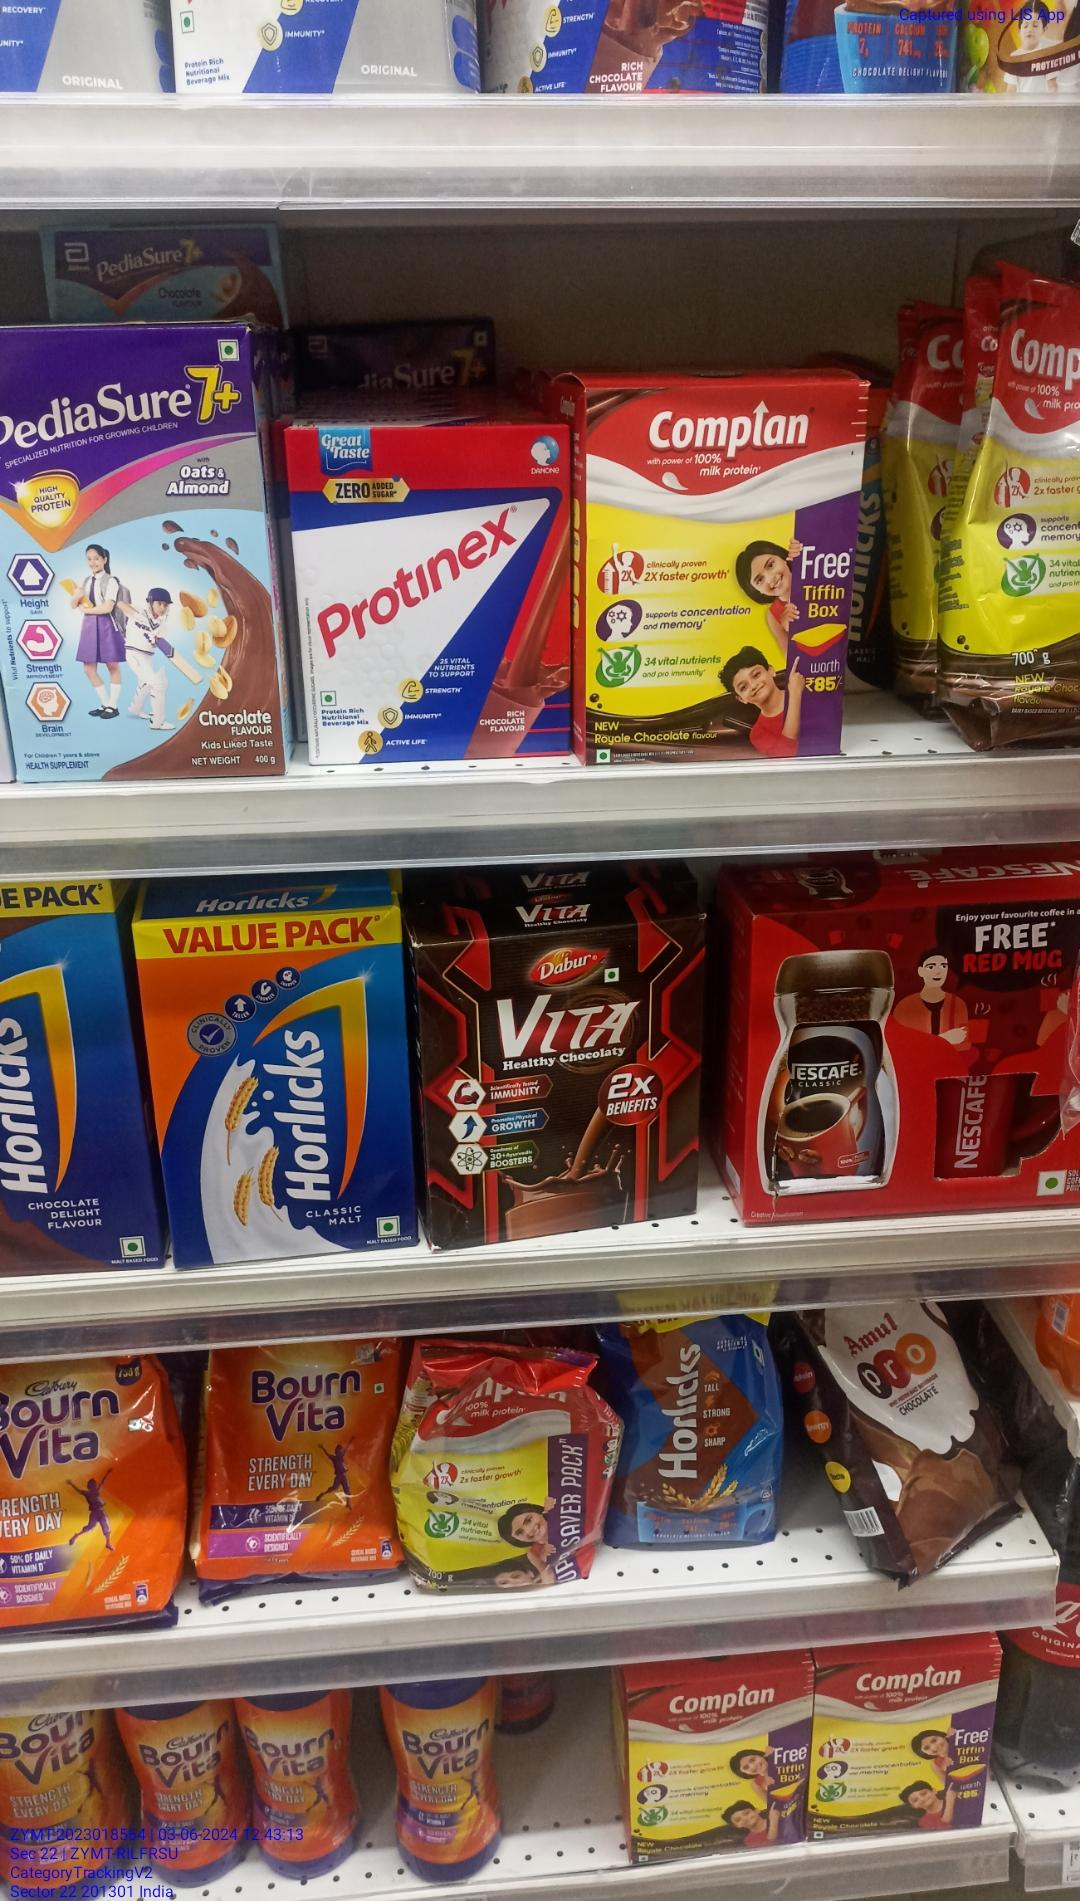BOURN_VITA_500_G_JAR: (388, 1684, 509, 1888), (115, 1704, 243, 1880), (246, 1693, 366, 1876)
HORLICK_CLASSIC_MALT_500_G_PACK: (154, 915, 406, 1259)
PEDIASURE_7_PLUS_CHOCOLATE_400_G_PACK: (0, 330, 272, 776)
